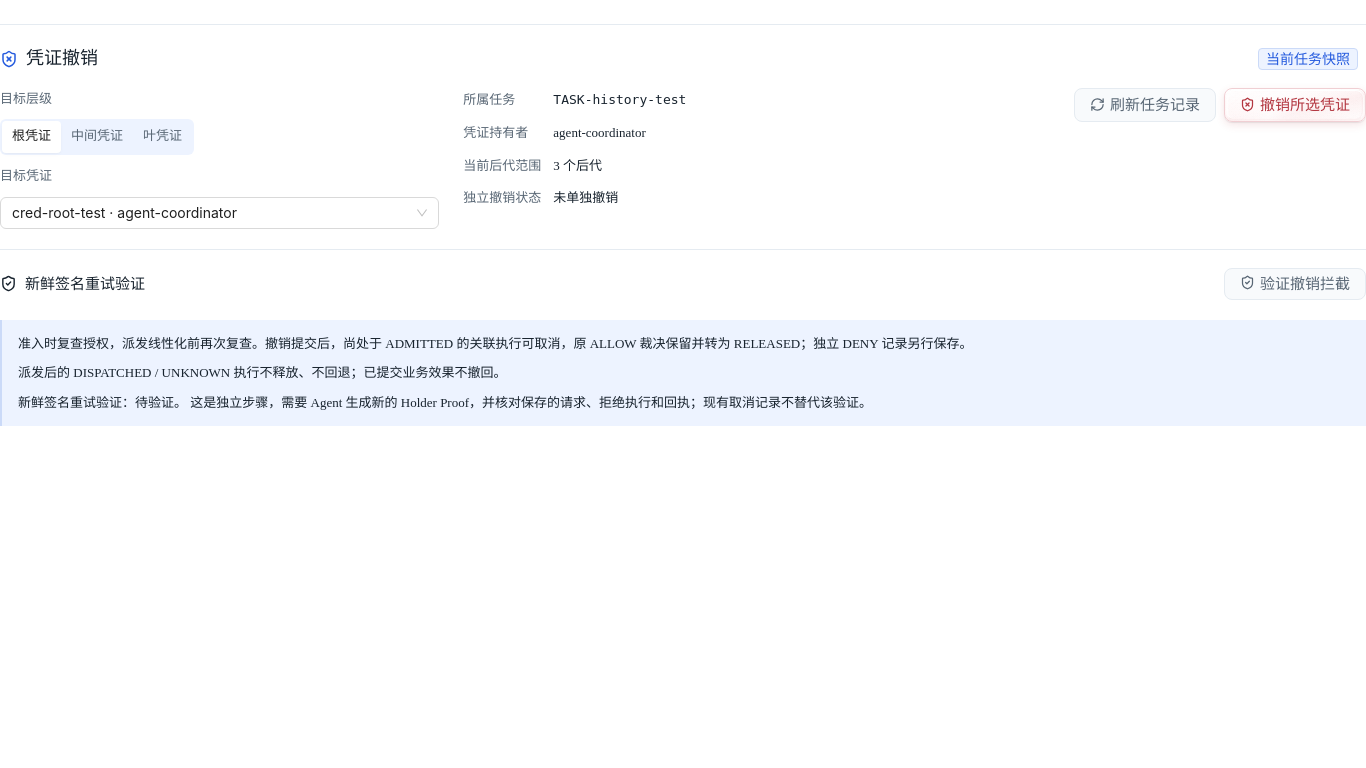
Test: CredentialRevocationPanel › rejects a wrong-task reply without recording success
The width and height of the screenshot is (1366, 768).
What coordinates should you click on to do the following:
click the button "撤销所选凭证"
I would click on:
 (1295, 105)
Its box is [1224,88,1365,122].
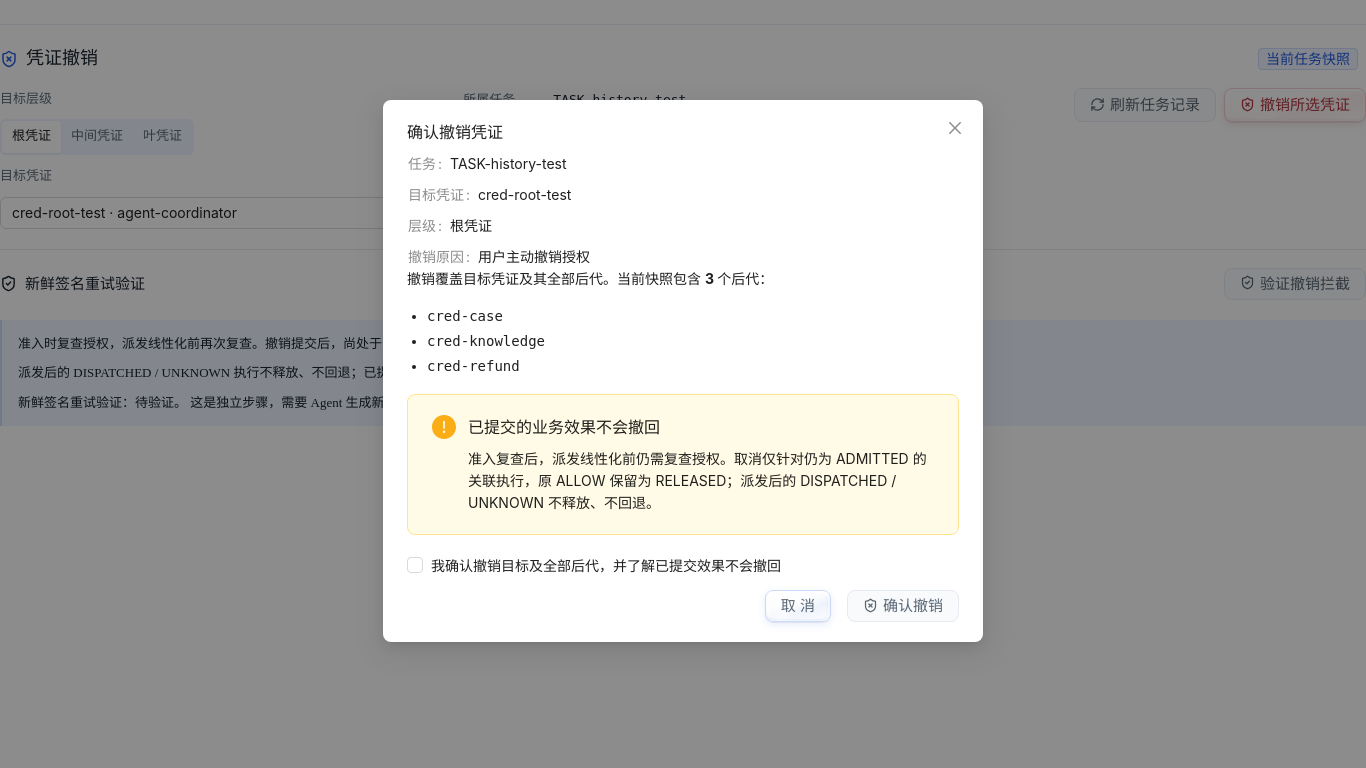
What coordinates should you click on to do the following:
click the checkbox
I would click on:
 (598, 565)
Its box is [407,553,789,578].
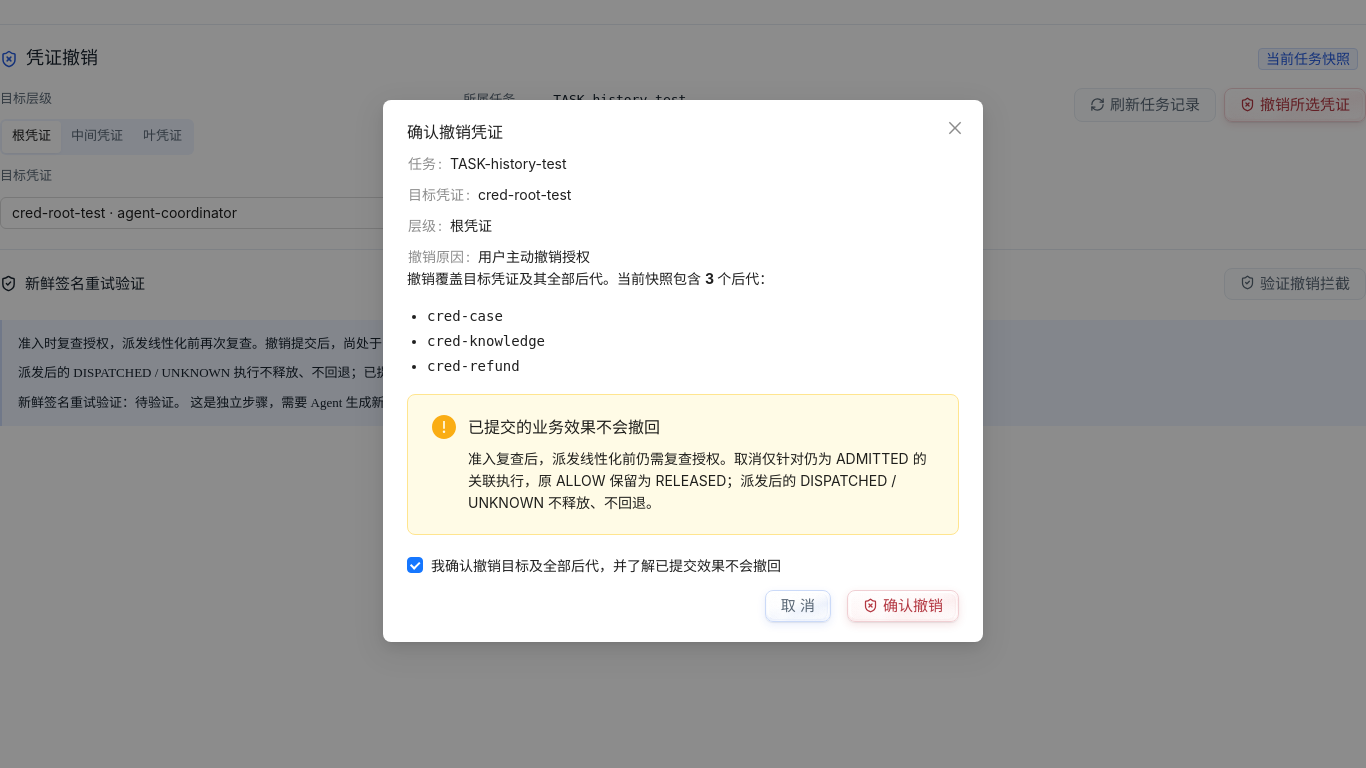
What coordinates should you click on to do the following:
click the button "确认撤销"
I would click on:
 (903, 606)
Its box is [847,590,959,622].
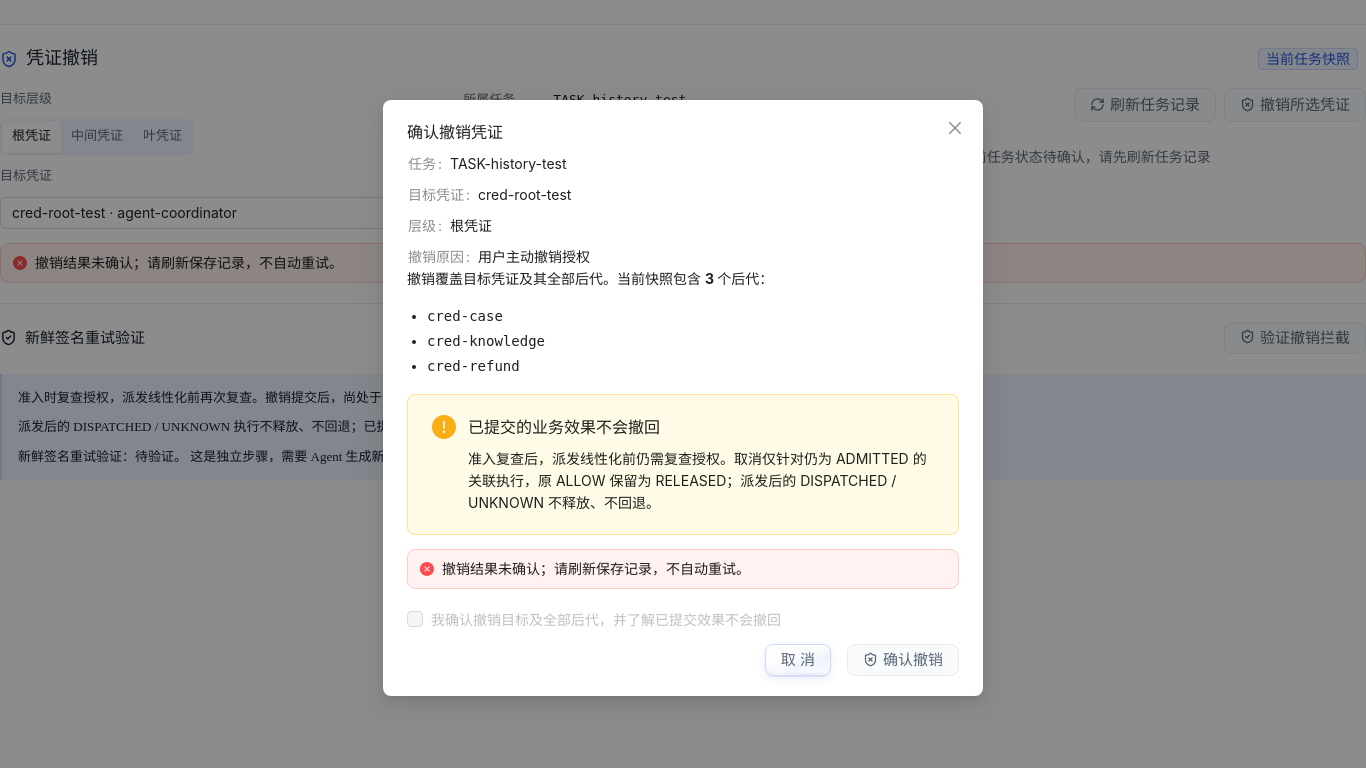
Now the text "撤销结果未确认；请刷新保存记录，不自动重试。" below "cred-root-test · agent-coordinator" is shown, box [35,254,343,271]
